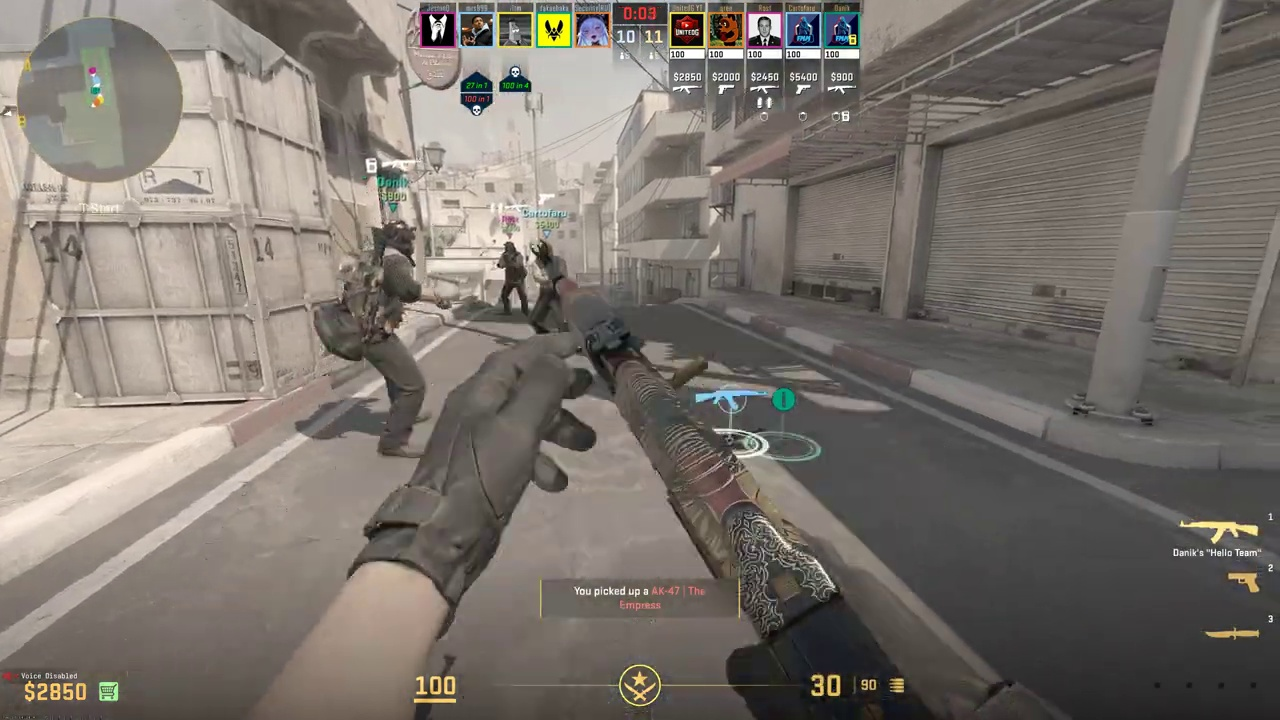Terrorist: (339, 221, 429, 456), (531, 243, 567, 334), (498, 242, 527, 313)
